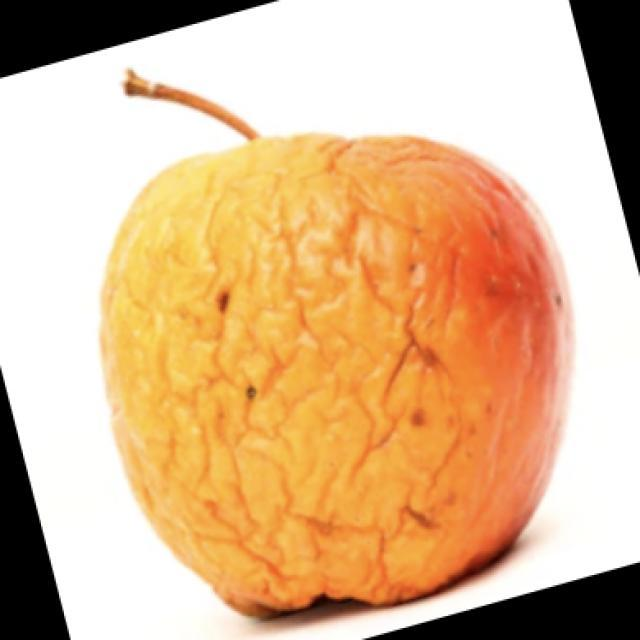Rotten: (108, 130, 560, 608)
